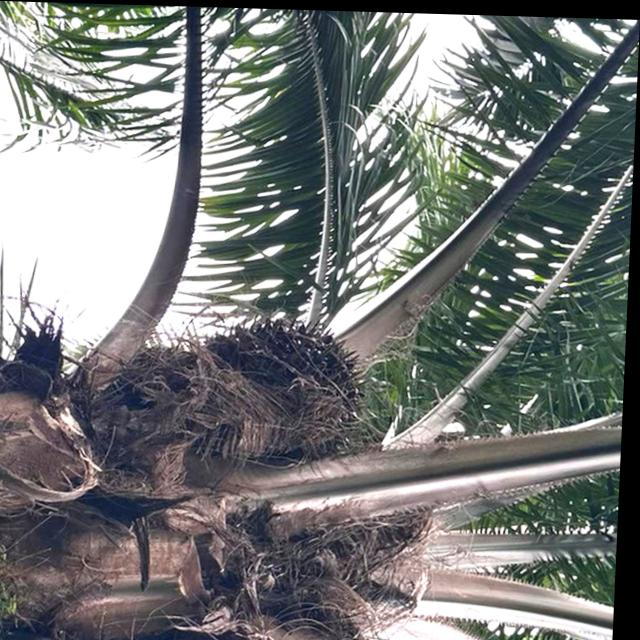almost: (187, 307, 372, 441)
